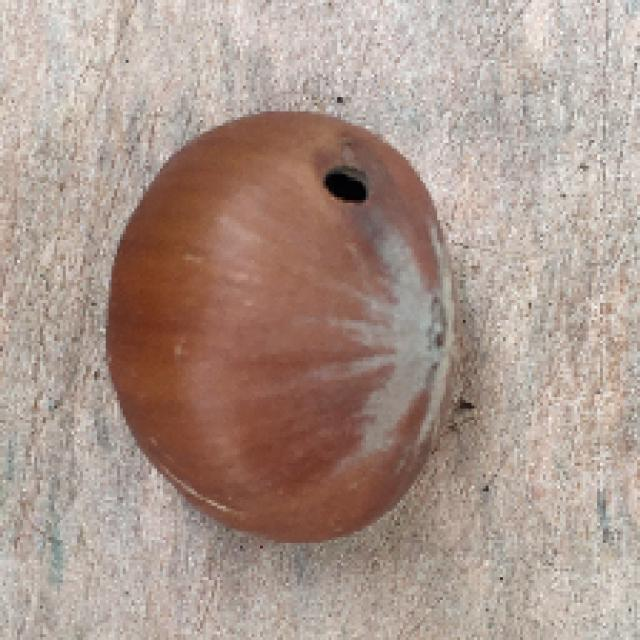damagedHazelnut: (114, 97, 465, 545)
